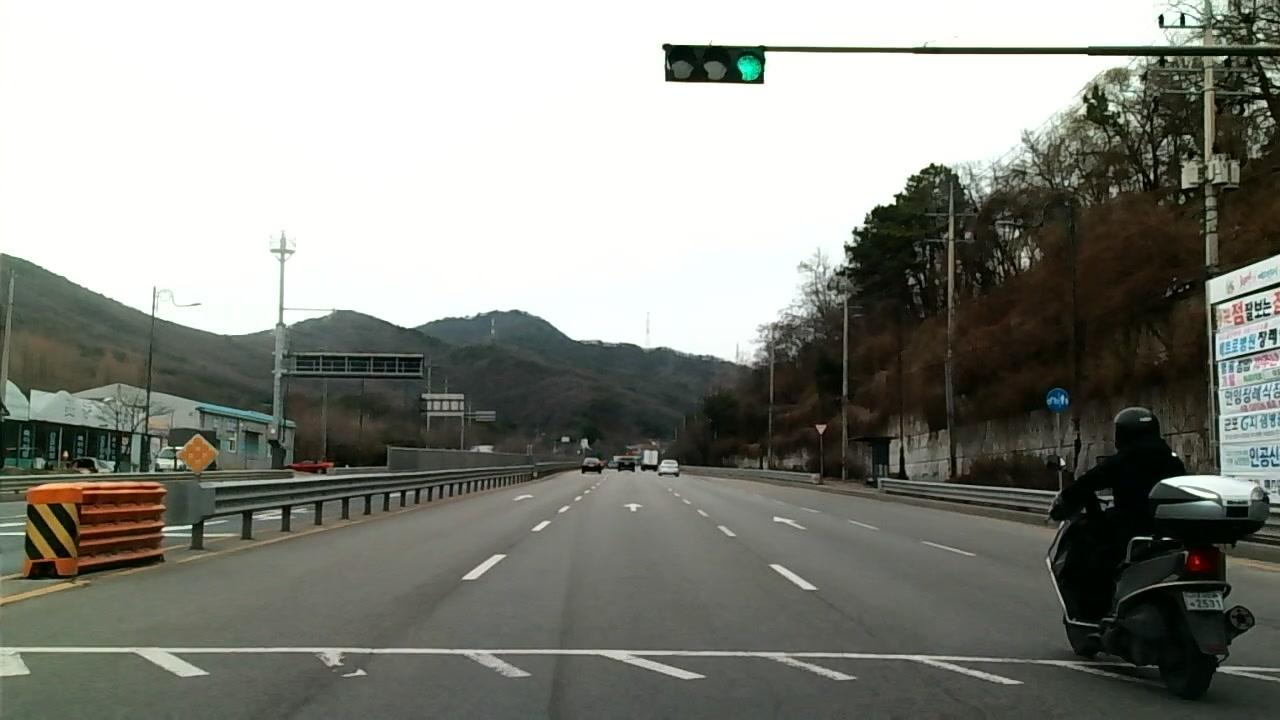banner: (1191, 249, 1280, 298), (1201, 316, 1280, 360), (1190, 289, 1280, 326), (1213, 435, 1280, 474), (1205, 350, 1280, 384), (1208, 381, 1280, 415), (1208, 408, 1280, 438)
